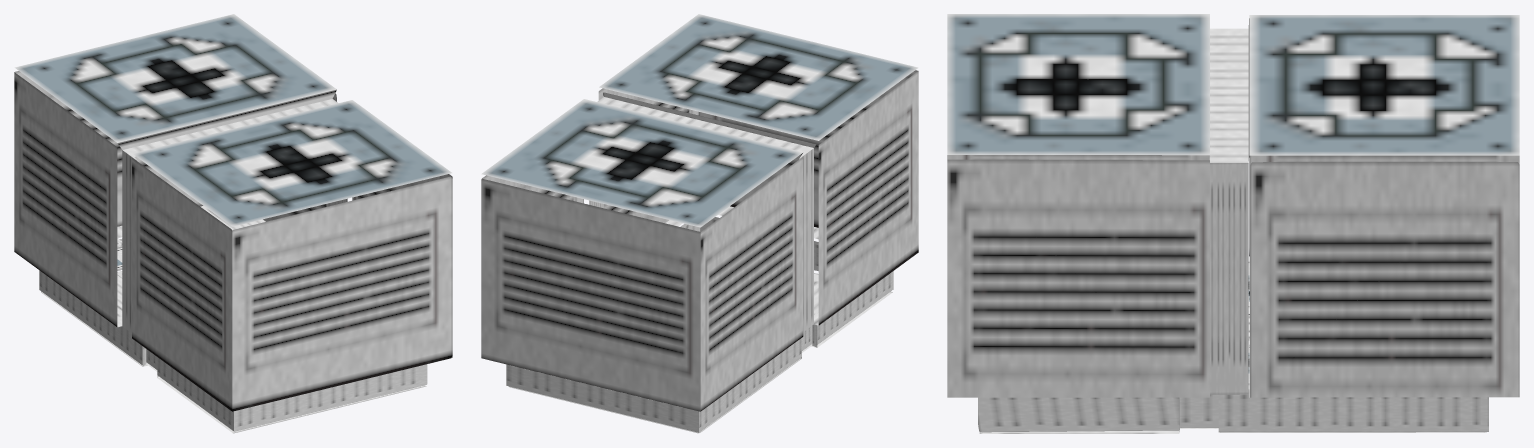
The model's file is BLOCKYGON_ROOF AC.fbx.
The picture shows the model from 3 angles, left to right: view 1: azimuth 30°, elevation 25°; view 2: azimuth 150°, elevation 25°; view 3: azimuth 270°, elevation 25°; orthographic projection. The views are drawn at different scales.
Visible parts, largest first — view 1: BLOCKYGON_ROOF_AC; view 2: BLOCKYGON_ROOF_AC; view 3: BLOCKYGON_ROOF_AC.
Part boxes in pixels (x1,y1,x2,y2): BLOCKYGON_ROOF_AC: (14,14,452,433); BLOCKYGON_ROOF_AC: (481,14,918,433); BLOCKYGON_ROOF_AC: (947,14,1519,433).
Bounding box in the file's own units: 182 × 173 × 313.
